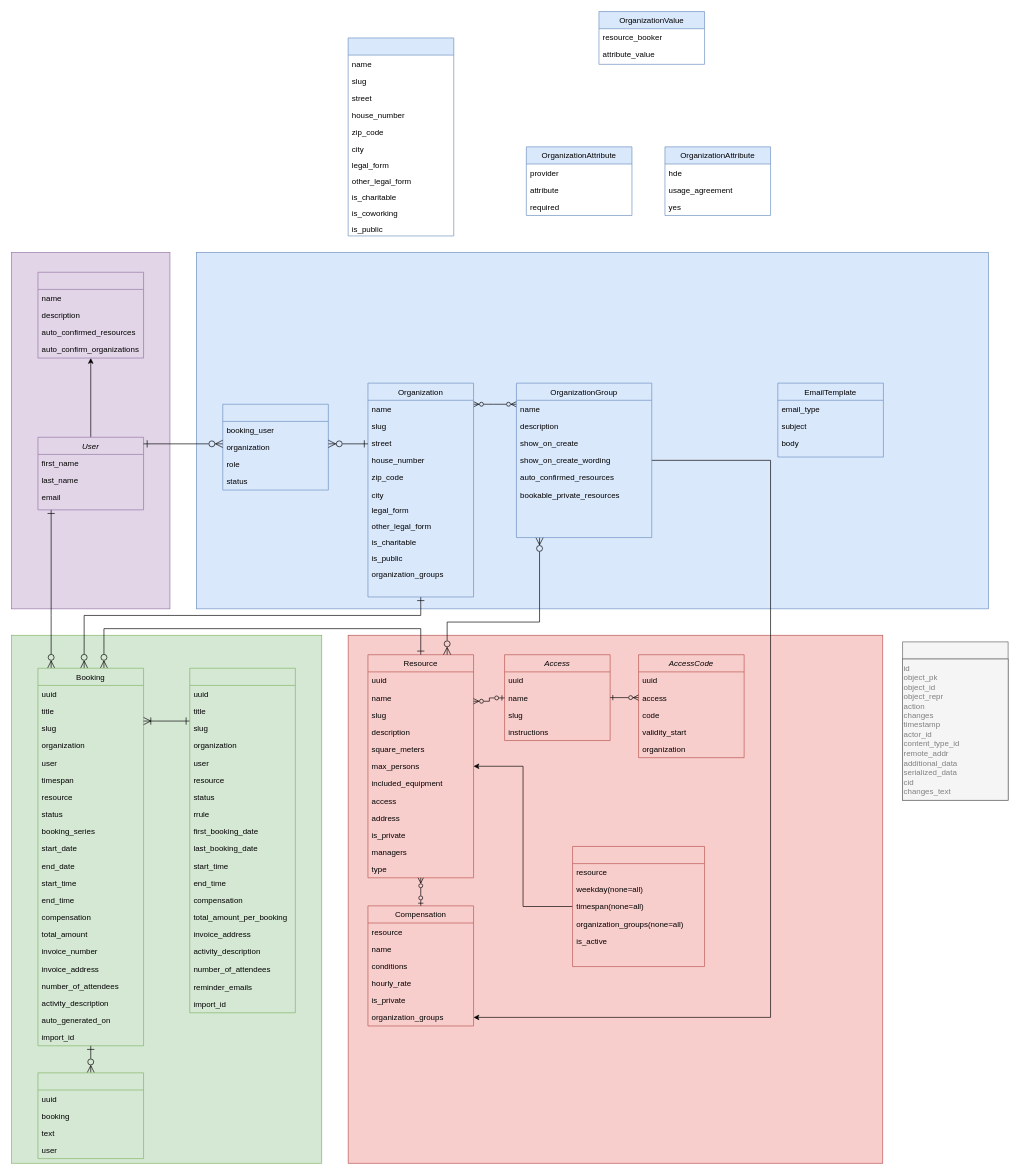
The diagram is 1020 pixels wide and 1175 high, and some of its shapes have lost their labels. The box of each missing label's shape, as (x1, y1, x2, y2) in pixels:
auditlog_logentry: (902, 641, 1008, 800)
BaseOrganization: (347, 37, 454, 236)
bookable_times?: (572, 846, 705, 967)
BookingMessage: (37, 1072, 144, 1159)
BookingPermission: (222, 404, 328, 490)
BookingSeries: (189, 668, 295, 1013)
UserGroup: (37, 272, 144, 358)
